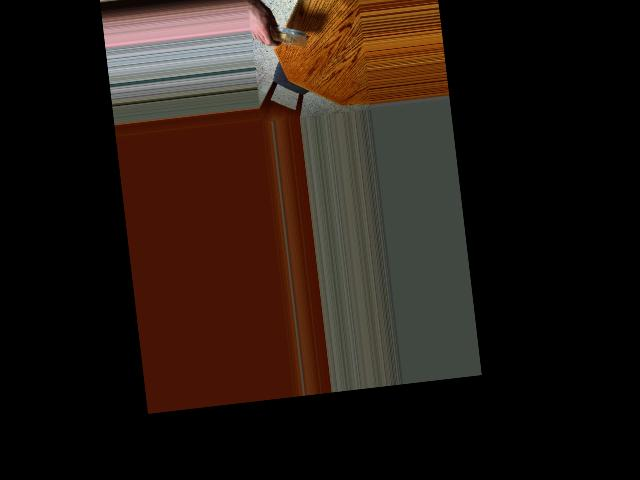cheese: (269, 21, 304, 53)
